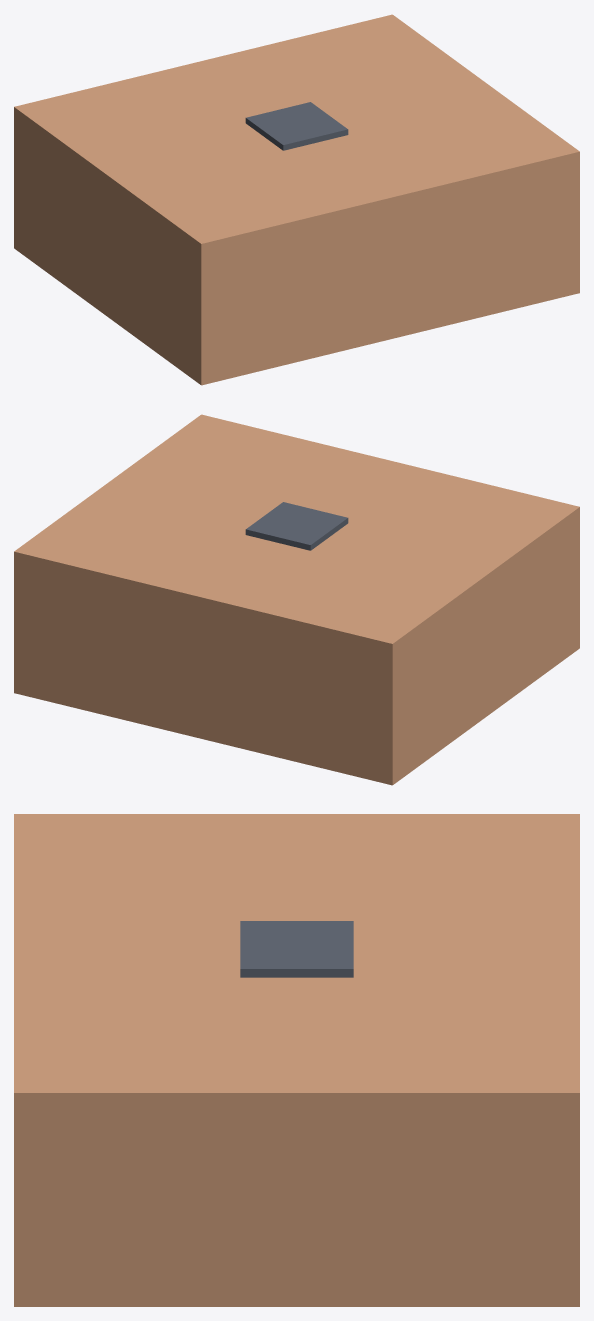
File: wst-chip-holder-manual.glb
3 renders of one model, top to bottom at view 1: azimuth 30°, elevation 25°; view 2: azimuth 150°, elevation 25°; view 3: azimuth 270°, elevation 25°, orthographic. The views are drawn at different scales.
Visible parts, largest first — view 1: copper chip block, dark DUT; view 2: copper chip block, dark DUT; view 3: copper chip block, dark DUT.
Boxes of the visible parts, <box> form: copper chip block: <box>14,14,579,385</box>; dark DUT: <box>245,102,348,150</box>; copper chip block: <box>14,414,579,785</box>; dark DUT: <box>245,502,348,550</box>; copper chip block: <box>14,814,579,1306</box>; dark DUT: <box>240,921,353,977</box>.
Bounding box in the file's own units: 0.07 × 0.026 × 0.06.
